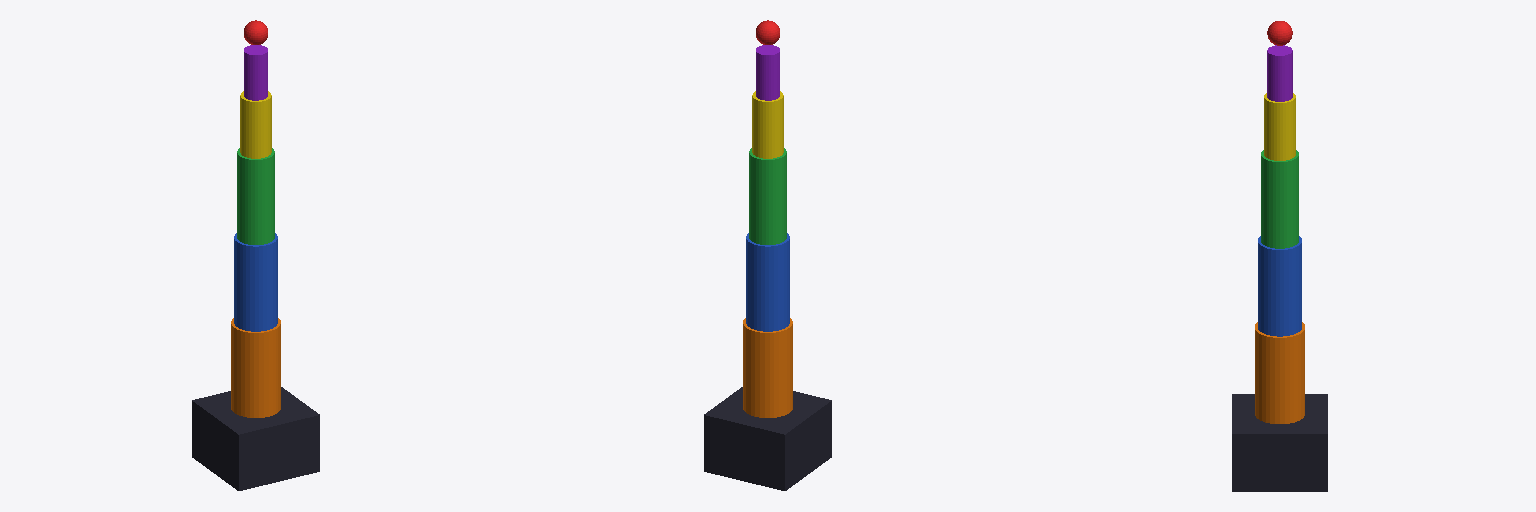
The robot description file, URDF, robot "test_6dof":
<?xml version="1.0"?>
<robot name="test_6dof">
  <!-- Base Link -->
  <link name="base_link">
    <visual>
      <origin xyz="0 0 0.05" rpy="0 0 0"/>
      <geometry>
        <box size="0.15 0.15 0.1"/>
      </geometry>
      <material name="dark_gray">
        <color rgba="0.2 0.2 0.25 1"/>
      </material>
    </visual>
    <collision>
      <origin xyz="0 0 0.05" rpy="0 0 0"/>
      <geometry>
        <box size="0.15 0.15 0.1"/>
      </geometry>
    </collision>
  </link>

  <!-- Joint 1: Base rotation (Z) -->
  <joint name="joint_1" type="revolute">
    <parent link="base_link"/>
    <child link="link_1"/>
    <origin xyz="0 0 0.1" rpy="0 0 0"/>
    <axis xyz="0 0 1"/>
    <limit lower="-3.14159" upper="3.14159" effort="100" velocity="3.0"/>
  </joint>

  <link name="link_1">
    <visual>
      <origin xyz="0 0 0.075" rpy="0 0 0"/>
      <geometry>
        <cylinder radius="0.04" length="0.15"/>
      </geometry>
      <material name="orange">
        <color rgba="0.9 0.5 0.1 1"/>
      </material>
    </visual>
    <collision>
      <origin xyz="0 0 0.075" rpy="0 0 0"/>
      <geometry>
        <cylinder radius="0.04" length="0.15"/>
      </geometry>
    </collision>
  </link>

  <!-- Joint 2: Shoulder (Y) -->
  <joint name="joint_2" type="revolute">
    <parent link="link_1"/>
    <child link="link_2"/>
    <origin xyz="0 0 0.15" rpy="0 0 0"/>
    <axis xyz="0 1 0"/>
    <limit lower="-1.5708" upper="1.5708" effort="100" velocity="3.0"/>
  </joint>

  <link name="link_2">
    <visual>
      <origin xyz="0 0 0.075" rpy="0 0 0"/>
      <geometry>
        <cylinder radius="0.035" length="0.15"/>
      </geometry>
      <material name="blue">
        <color rgba="0.2 0.4 0.8 1"/>
      </material>
    </visual>
    <collision>
      <origin xyz="0 0 0.075" rpy="0 0 0"/>
      <geometry>
        <cylinder radius="0.035" length="0.15"/>
      </geometry>
    </collision>
  </link>

  <!-- Joint 3: Elbow (Y) -->
  <joint name="joint_3" type="revolute">
    <parent link="link_2"/>
    <child link="link_3"/>
    <origin xyz="0 0 0.15" rpy="0 0 0"/>
    <axis xyz="0 1 0"/>
    <limit lower="-3.14159" upper="3.14159" effort="100" velocity="3.0"/>
  </joint>

  <link name="link_3">
    <visual>
      <origin xyz="0 0 0.075" rpy="0 0 0"/>
      <geometry>
        <cylinder radius="0.03" length="0.15"/>
      </geometry>
      <material name="green">
        <color rgba="0.2 0.7 0.3 1"/>
      </material>
    </visual>
    <collision>
      <origin xyz="0 0 0.075" rpy="0 0 0"/>
      <geometry>
        <cylinder radius="0.03" length="0.15"/>
      </geometry>
    </collision>
  </link>

  <!-- Joint 4: Wrist 1 (Z) -->
  <joint name="joint_4" type="revolute">
    <parent link="link_3"/>
    <child link="link_4"/>
    <origin xyz="0 0 0.15" rpy="0 0 0"/>
    <axis xyz="0 0 1"/>
    <limit lower="-3.14159" upper="3.14159" effort="50" velocity="6.0"/>
  </joint>

  <link name="link_4">
    <visual>
      <origin xyz="0 0 0.05" rpy="0 0 0"/>
      <geometry>
        <cylinder radius="0.025" length="0.1"/>
      </geometry>
      <material name="yellow">
        <color rgba="0.9 0.8 0.1 1"/>
      </material>
    </visual>
    <collision>
      <origin xyz="0 0 0.05" rpy="0 0 0"/>
      <geometry>
        <cylinder radius="0.025" length="0.1"/>
      </geometry>
    </collision>
  </link>

  <!-- Joint 5: Wrist 2 (Y) -->
  <joint name="joint_5" type="revolute">
    <parent link="link_4"/>
    <child link="link_5"/>
    <origin xyz="0 0 0.1" rpy="0 0 0"/>
    <axis xyz="0 1 0"/>
    <limit lower="-1.5708" upper="1.5708" effort="50" velocity="6.0"/>
  </joint>

  <link name="link_5">
    <visual>
      <origin xyz="0 0 0.04" rpy="0 0 0"/>
      <geometry>
        <cylinder radius="0.02" length="0.08"/>
      </geometry>
      <material name="purple">
        <color rgba="0.6 0.2 0.8 1"/>
      </material>
    </visual>
    <collision>
      <origin xyz="0 0 0.04" rpy="0 0 0"/>
      <geometry>
        <cylinder radius="0.02" length="0.08"/>
      </geometry>
    </collision>
  </link>

  <!-- Joint 6: Wrist 3 (Z) -->
  <joint name="joint_6" type="revolute">
    <parent link="link_5"/>
    <child link="tool0"/>
    <origin xyz="0 0 0.08" rpy="0 0 0"/>
    <axis xyz="0 0 1"/>
    <limit lower="-3.14159" upper="3.14159" effort="30" velocity="6.0"/>
  </joint>

  <link name="tool0">
    <visual>
      <origin xyz="0 0 0.03" rpy="0 0 0"/>
      <geometry>
        <sphere radius="0.02"/>
      </geometry>
      <material name="red">
        <color rgba="0.9 0.2 0.2 1"/>
      </material>
    </visual>
    <collision>
      <origin xyz="0 0 0.03" rpy="0 0 0"/>
      <geometry>
        <sphere radius="0.02"/>
      </geometry>
    </collision>
  </link>
</robot>

--- What the picture shows (computed from the rendered views, not written in the file) ---
3 views of the same robot in one strip: view 1: azimuth 30°, elevation 25°; view 2: azimuth 150°, elevation 25°; view 3: azimuth 270°, elevation 25° (orthographic).
Model test_6dof with 7 links and 6 joints (6 revolute), rooted at base_link, posed every joint at zero.
Visible links, largest first — view 1: base_link, link_1, link_2, link_3, link_4, link_5; view 2: base_link, link_1, link_2, link_3, link_4, link_5; view 3: base_link, link_1, link_2, link_3, link_4, link_5.
Boxes of the visible links, x1,y1,x2,y2 form: base_link: (192, 387, 319, 490); link_1: (231, 318, 280, 417); link_2: (234, 233, 277, 331); link_3: (237, 148, 274, 244); link_4: (240, 91, 271, 158); link_5: (244, 45, 267, 100); base_link: (704, 387, 831, 490); link_1: (743, 318, 792, 417); link_2: (746, 233, 789, 331); link_3: (749, 148, 786, 244); link_4: (752, 91, 783, 158); link_5: (756, 45, 779, 100); base_link: (1232, 394, 1327, 491); link_1: (1255, 322, 1304, 423); link_2: (1258, 236, 1301, 336); link_3: (1261, 150, 1298, 248); link_4: (1264, 93, 1295, 160); link_5: (1267, 45, 1292, 101).
Bounding box of the posed robot: 0.15 × 0.15 × 0.78 m (x, y, z).
Geometry: primitives only (box / cylinder / sphere), no mesh files.
